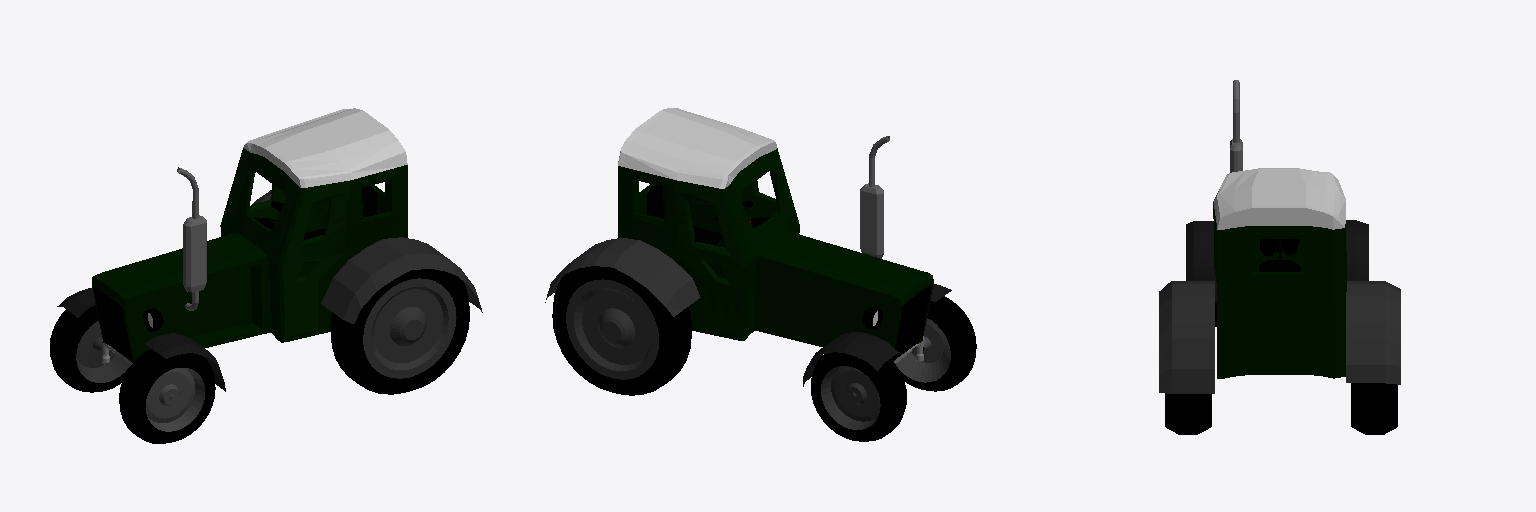
Rendered from Tractor.obj.
The picture shows the model from 3 angles: view 1: azimuth 30°, elevation 25°; view 2: azimuth 150°, elevation 25°; view 3: azimuth 270°, elevation 25°; orthographic projection.
Visible parts, largest first — view 1: CylinderFBXASC046016; view 2: CylinderFBXASC046016; view 3: CylinderFBXASC046016.
Boxes of the visible parts, <box> form: CylinderFBXASC046016: <box>50,108,482,443</box>; CylinderFBXASC046016: <box>545,108,976,441</box>; CylinderFBXASC046016: <box>1159,80,1400,434</box>.
Size of the model in its own units: 26.7 by 19.3 by 16.42.